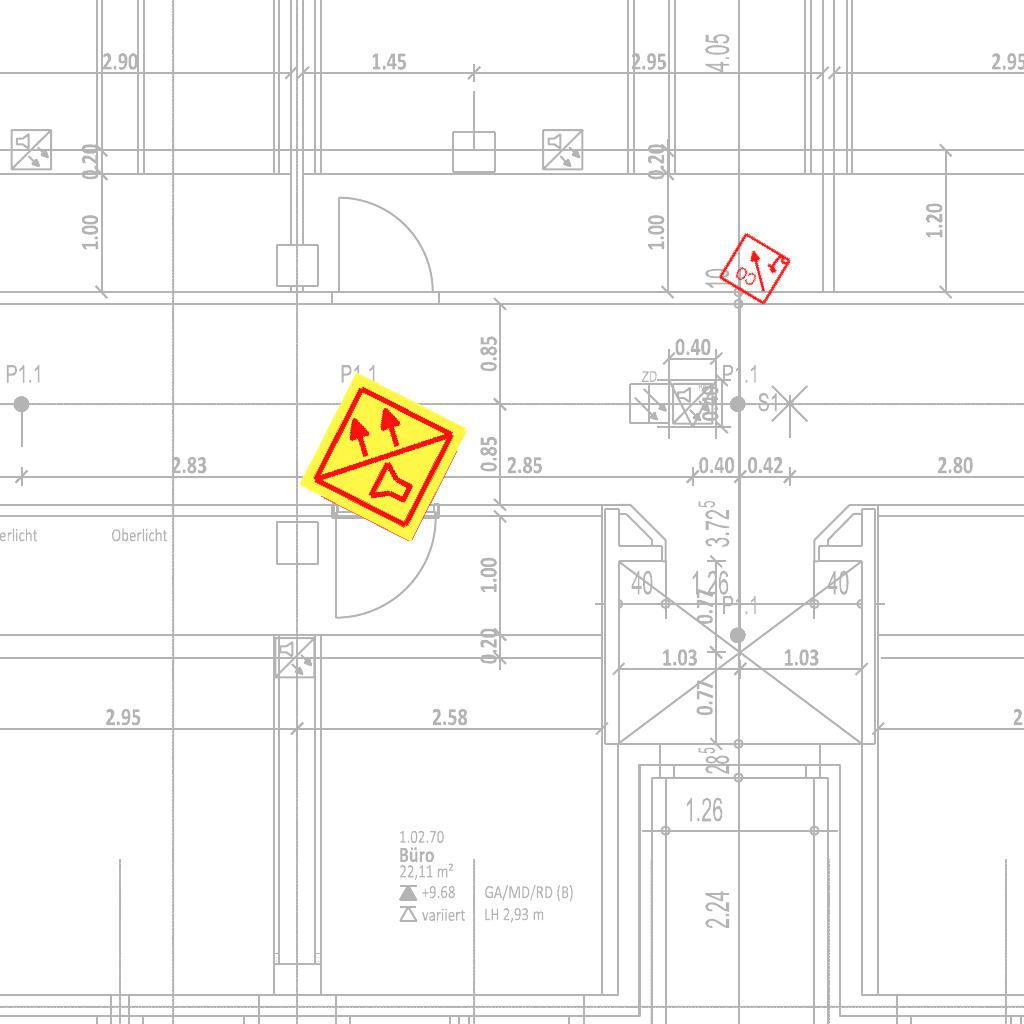OKW_Multisensormelder_(Kombination_optischer_Rauch-Kahlenmonoxid_Waerme-Melder): (295, 368, 473, 546)
ROA_Rauchmelder_optisch_mit_Signalgeber_(Sockelsirene): (716, 229, 794, 307)
